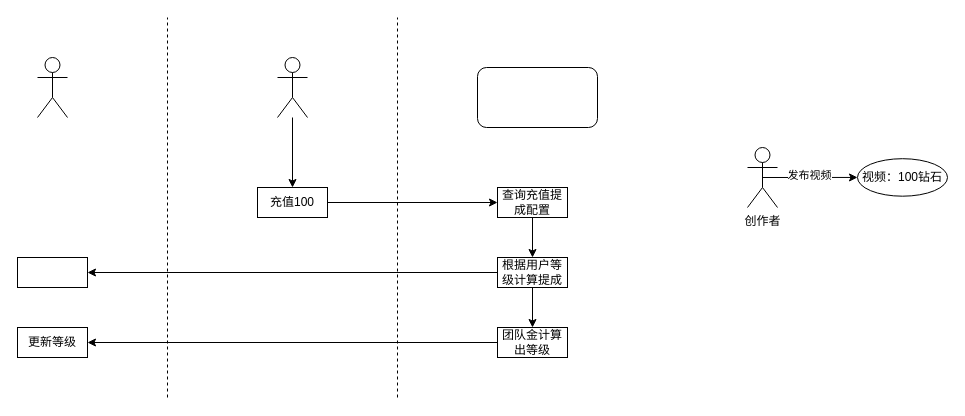
This 965x416 diagram has some shape labels left out. Here are the shapes that lost their labels. From the top down, the centre of each, then its label:
point (52, 87): 上级用户
point (292, 87): 下级用户
point (537, 97): 系统
point (52, 272): 获得提成
